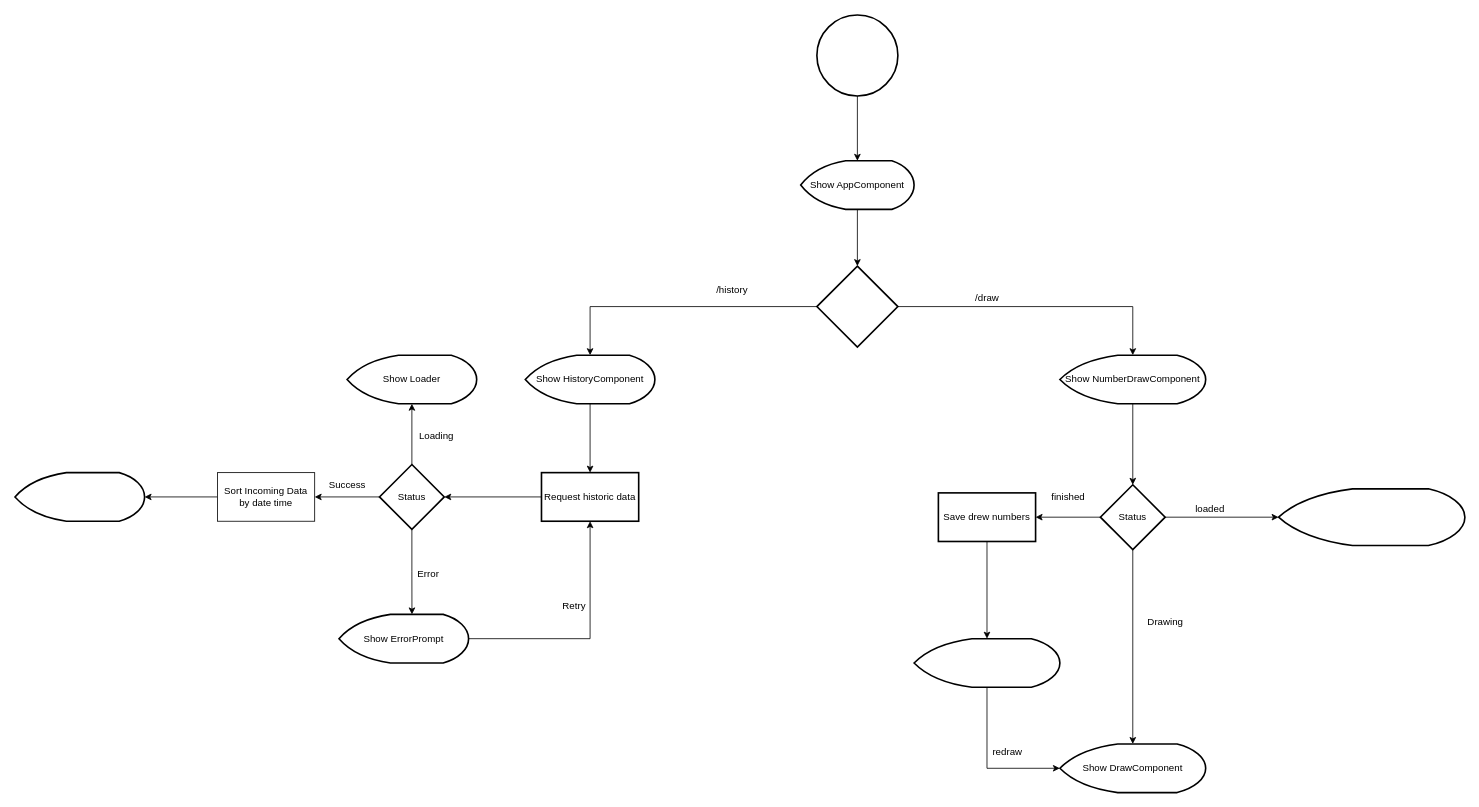
This 1479x807 diagram has some shape labels left out. The box of each missing label's shape, as (x1, y1, x2, y2) in pixels:
Application Start: (816, 14, 898, 96)
Route is?: (816, 265, 898, 347)
Show DrawEndedComponent: (913, 637, 1060, 688)
Show DrawHistoryTable Component: (14, 471, 145, 522)
Show WelcomePromptComponent: (1277, 488, 1465, 546)
